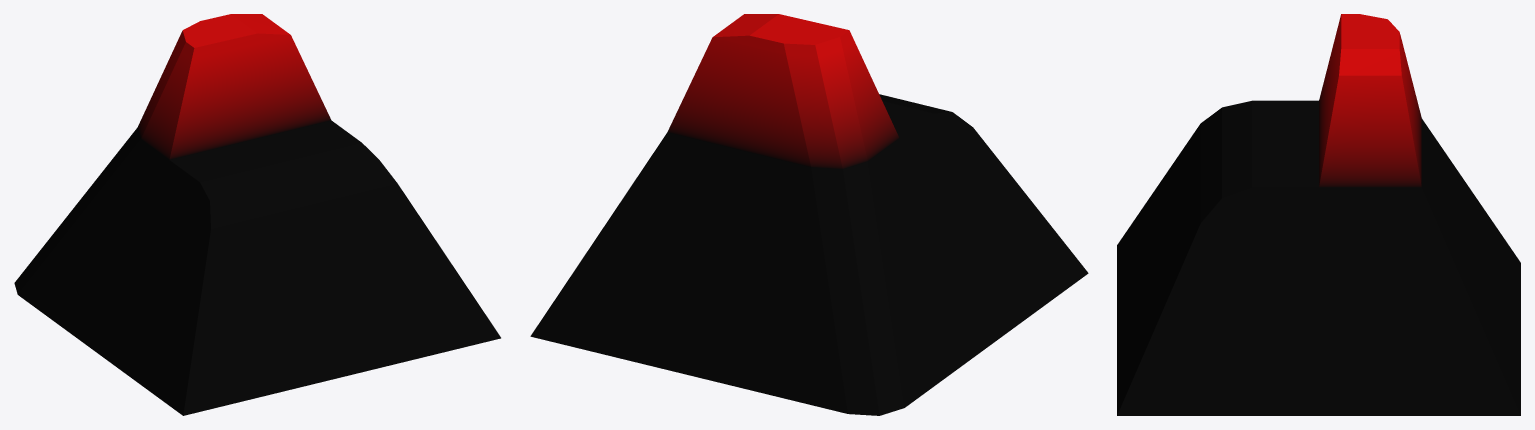
Rendered from Modeling.fbx.
The picture shows the model from 3 angles, left to right: view 1: azimuth 30°, elevation 25°; view 2: azimuth 150°, elevation 25°; view 3: azimuth 270°, elevation 25°; orthographic projection. The views are drawn at different scales.
Parts seen in each view (by area): view 1: Cube.061; view 2: Cube.061; view 3: Cube.061.
Boxes of the visible parts, bbox=[...] form: Cube.061: bbox=[14, 14, 500, 415]; Cube.061: bbox=[530, 14, 1088, 415]; Cube.061: bbox=[1117, 14, 1520, 415].
Bounding box in the file's own units: 393 × 313 × 393.
